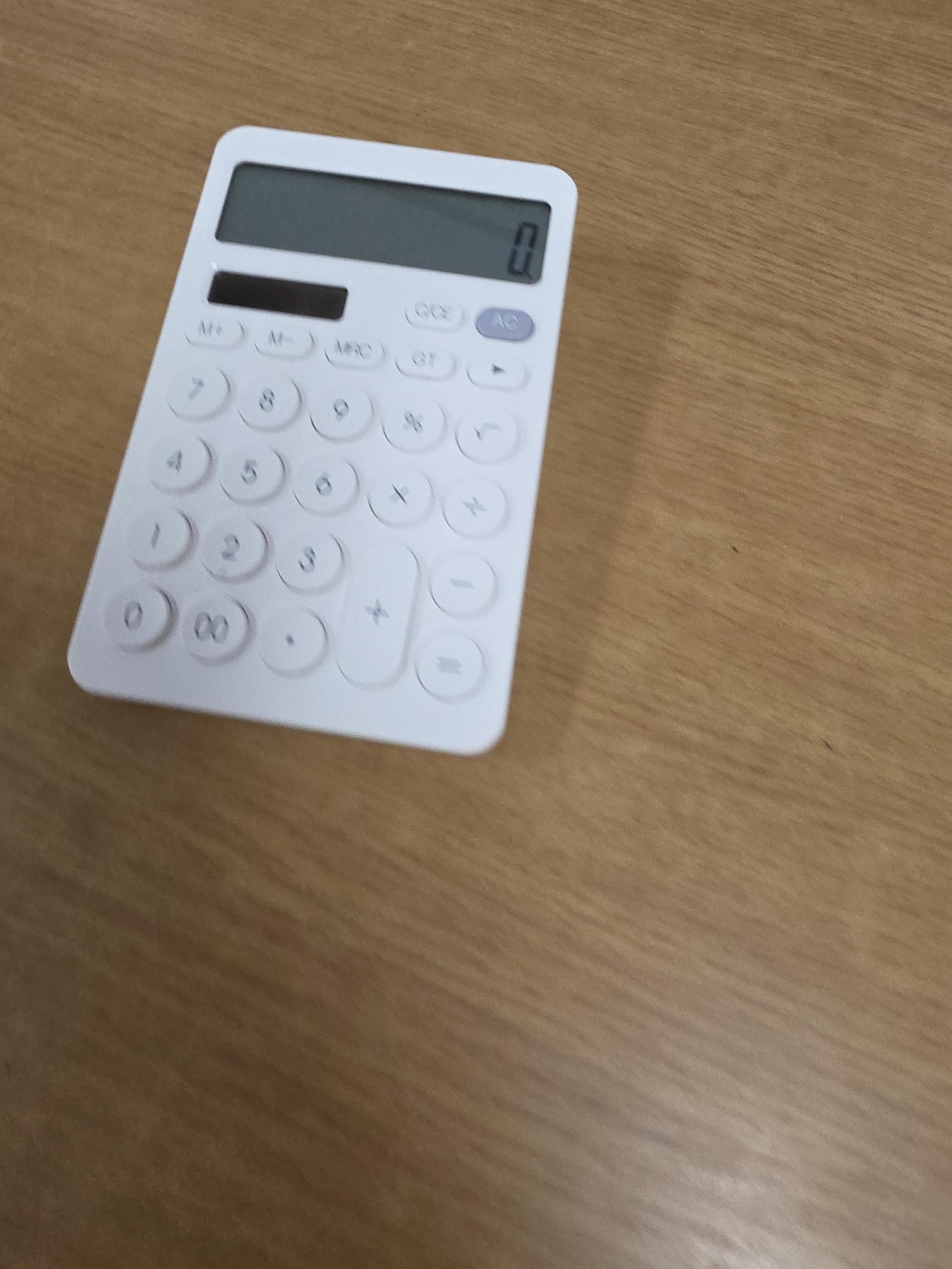calculator: (67, 125, 579, 757)
